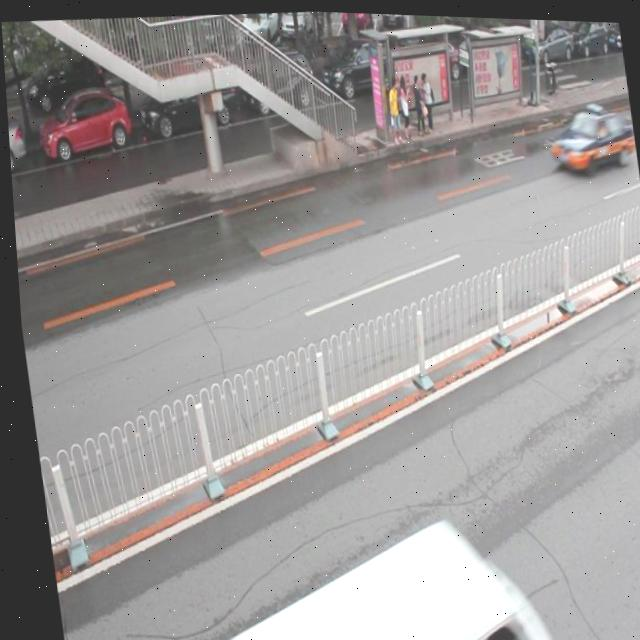car: (133, 51, 239, 134), (31, 84, 131, 165), (543, 92, 636, 170), (315, 31, 399, 99), (239, 42, 315, 115), (6, 109, 25, 178)
truck: (188, 498, 540, 640)
